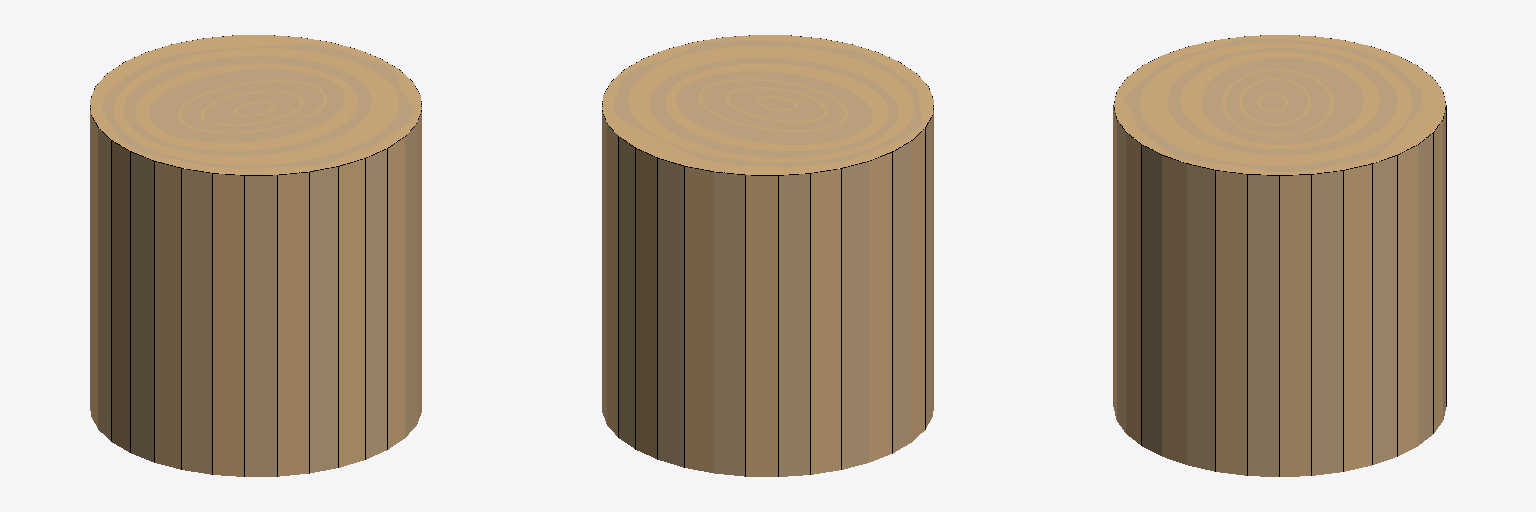
3 renders of one model, left to right at view 1: azimuth 30°, elevation 25°; view 2: azimuth 150°, elevation 25°; view 3: azimuth 270°, elevation 25°, orthographic.
Parts seen in each view (by area): view 1: Cylinder; view 2: Cylinder; view 3: Cylinder.
Part boxes in pixels (x1,y1,x2,y2): Cylinder: (90, 35, 421, 476); Cylinder: (602, 35, 933, 476); Cylinder: (1113, 35, 1446, 476).
Bounding box in the file's own units: 2 × 2 × 2.
1 materials, 1 textured.